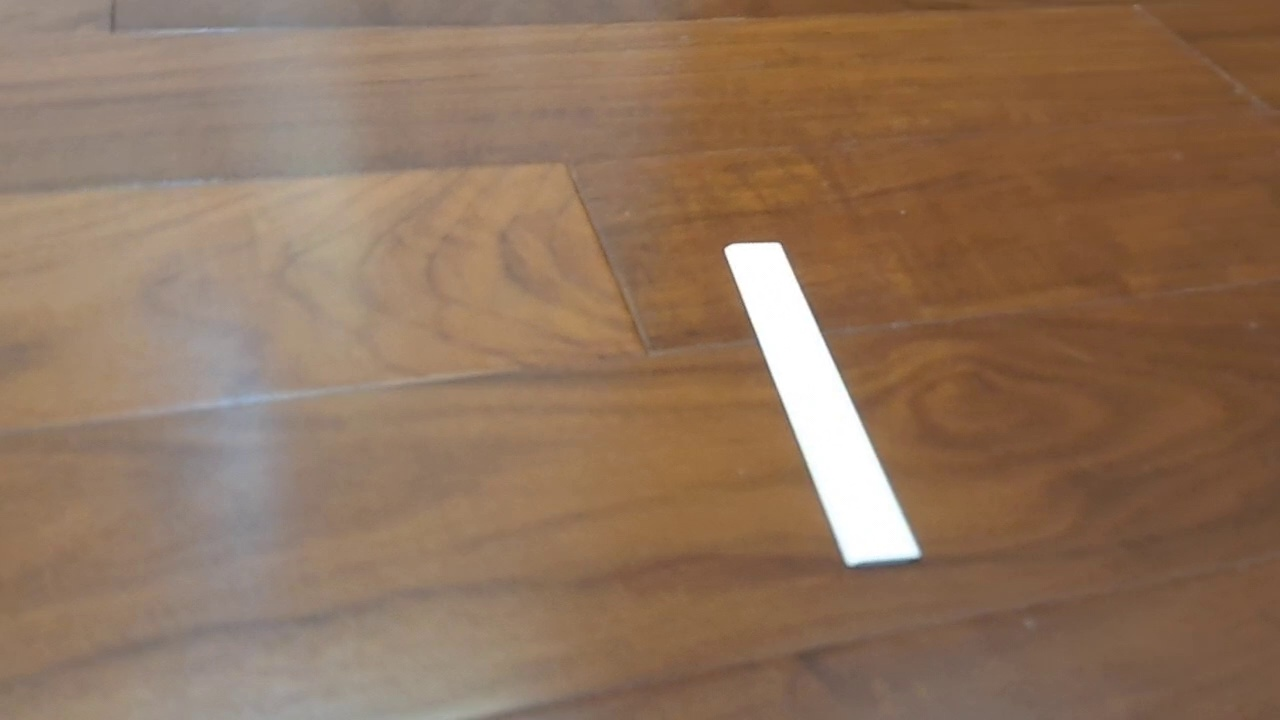ruler: (722, 240, 924, 570)
